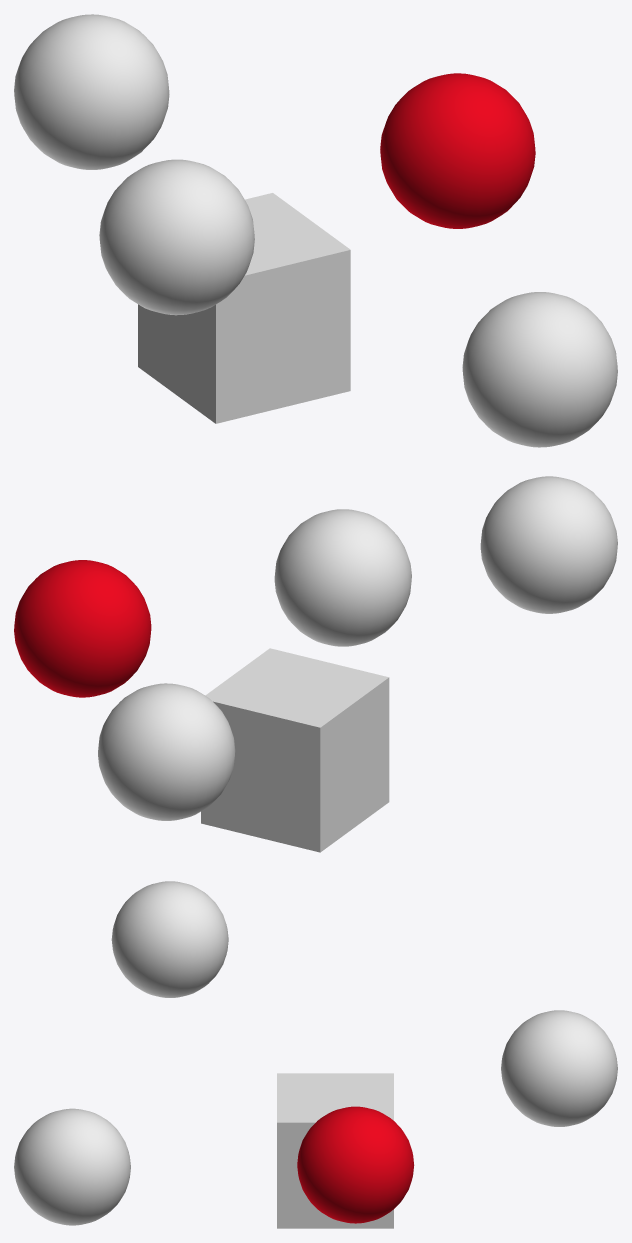
The model's file is waterPlane.glb.
The picture shows the model from 3 angles, top to bottom: view 1: azimuth 30°, elevation 25°; view 2: azimuth 150°, elevation 25°; view 3: azimuth 270°, elevation 25°; orthographic projection. The views are drawn at different scales.
Parts seen in each view (by area): view 1: Cube, Sphere.001, Sphere.003, Sphere.002, Sphere; view 2: Cube, Sphere.001, Sphere.002, Sphere, Sphere.003; view 3: Sphere, Sphere.001, Sphere.002, Sphere.003, Cube.
Part boxes in pixels (x1,y1,x2,y2): Cube: (138, 193, 350, 423); Sphere.001: (462, 292, 617, 447); Sphere.003: (14, 14, 169, 169); Sphere.002: (99, 159, 254, 315); Sphere: (380, 73, 535, 228); Cube: (201, 648, 389, 852); Sphere.001: (274, 509, 411, 646); Sphere.002: (480, 476, 617, 613); Sphere: (14, 560, 151, 697); Sphere.003: (98, 683, 235, 820); Sphere: (297, 1106, 414, 1223); Sphere.001: (14, 1108, 130, 1225); Sphere.002: (111, 881, 228, 997); Sphere.003: (501, 1010, 617, 1126); Cube: (277, 1073, 393, 1228).
Size of what is drawn, in the model's own units: 7.99 by 4.76 by 10.32.
